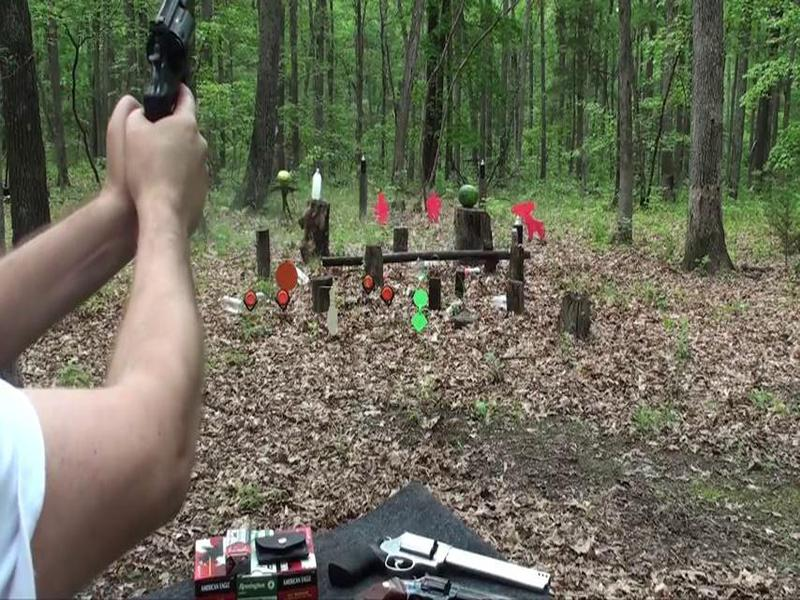Revolver: (131, 1, 223, 156)
